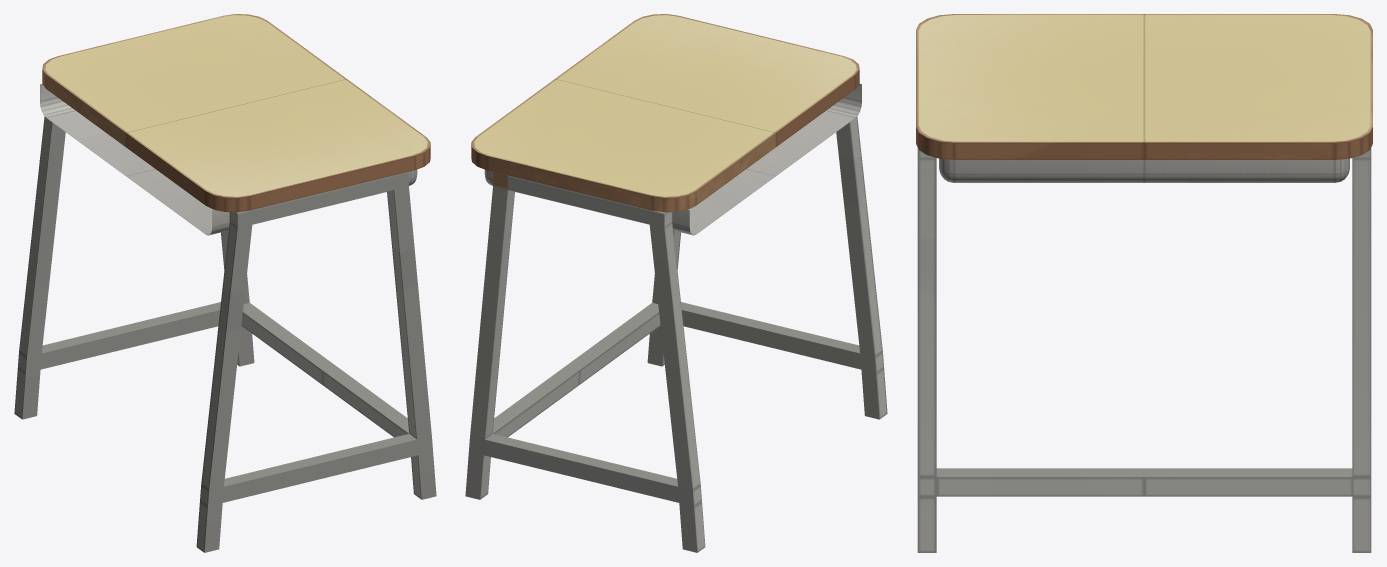
The model's file is desk.glb.
The picture shows the model from 3 angles, left to right: view 1: azimuth 30°, elevation 25°; view 2: azimuth 150°, elevation 25°; view 3: azimuth 270°, elevation 25°; orthographic projection. The views are drawn at different scales.
Visible parts, largest first — view 1: desk; view 2: desk; view 3: desk.
Boxes of the visible parts, x1,y1,x2,y2 form: desk: [14, 14, 436, 552]; desk: [465, 14, 887, 552]; desk: [916, 14, 1372, 552].
Bounding box in the file's own units: 0.43 × 0.5991 × 0.6.
1 material, 1 textured.
